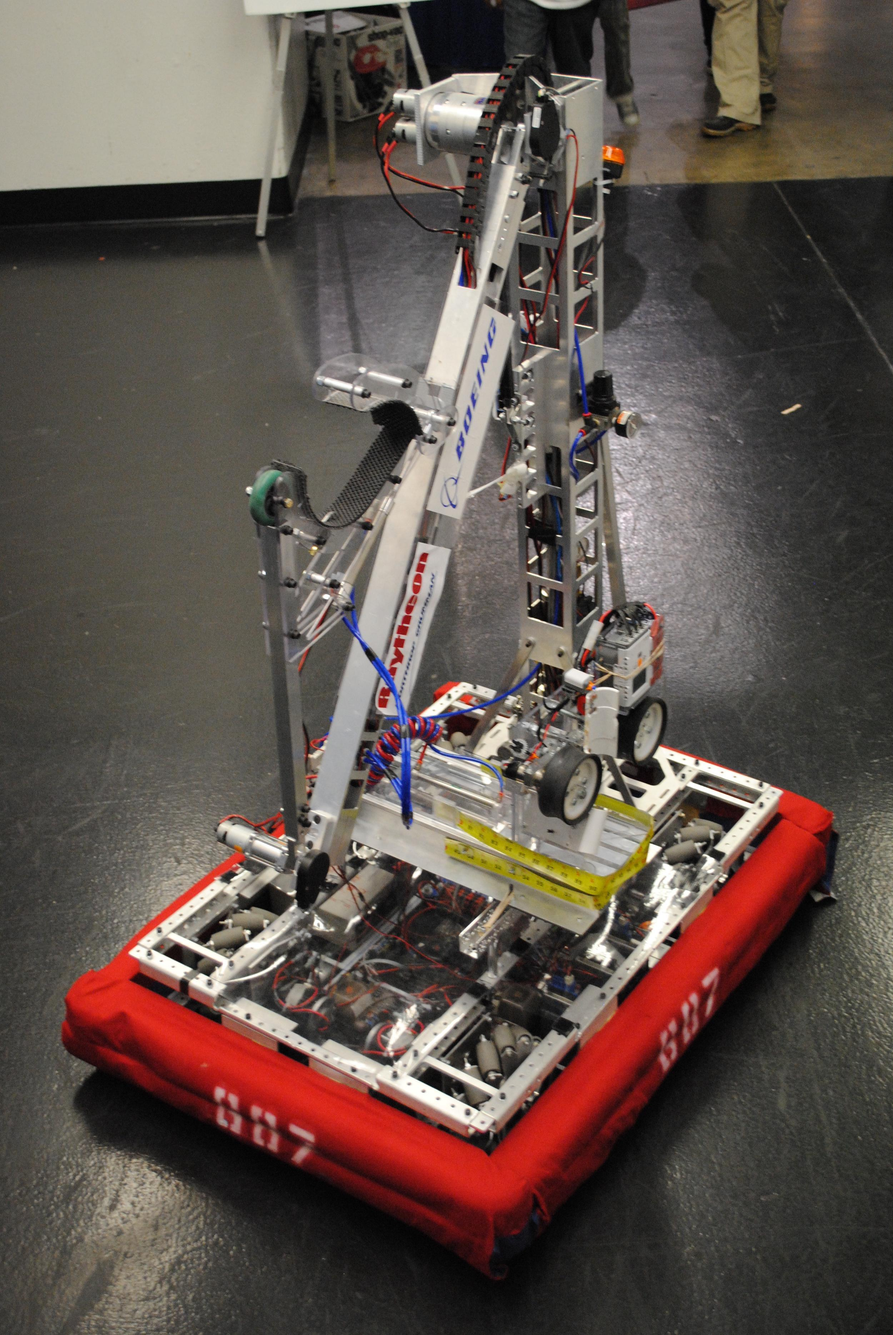robot: (57, 38, 843, 1292)
